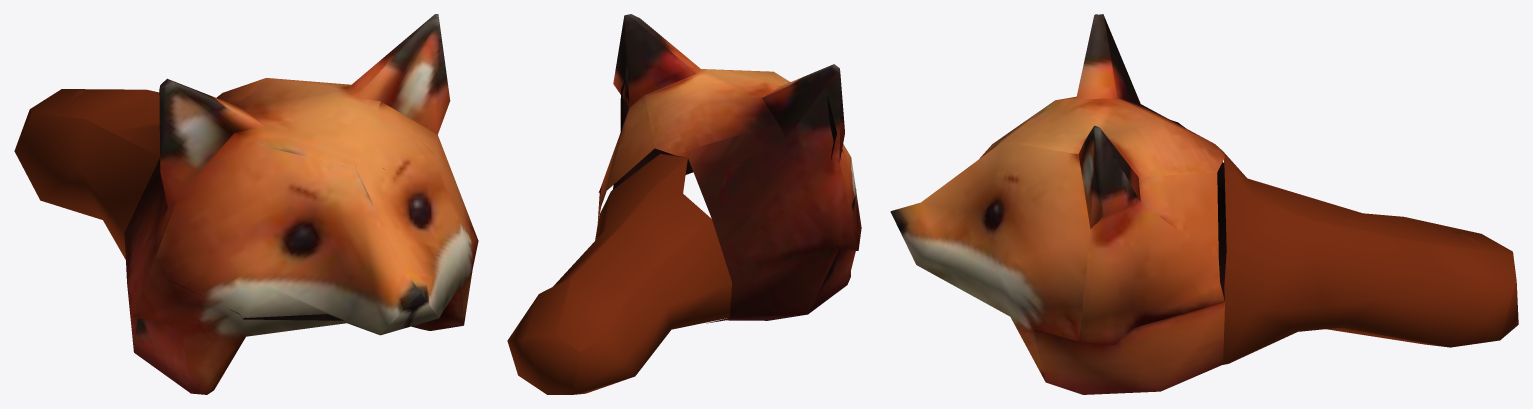
The model's file is red-fox.glb.
The picture shows the model from 3 angles, left to right: view 1: azimuth 30°, elevation 25°; view 2: azimuth 150°, elevation 25°; view 3: azimuth 270°, elevation 25°; orthographic projection. The views are drawn at different scales.
Parts seen in each view (by area): view 1: geometry_0; view 2: geometry_0; view 3: geometry_0.
Part boxes in pixels (x1=…): geometry_0: x1=14, y1=14, x2=478, y2=394; geometry_0: x1=507, y1=14, x2=861, y2=394; geometry_0: x1=890, y1=14, x2=1518, y2=394.
Bounding box in the file's own units: 0.4804 × 0.4294 × 0.8887.
Materials: 2 (1 with a texture image).
